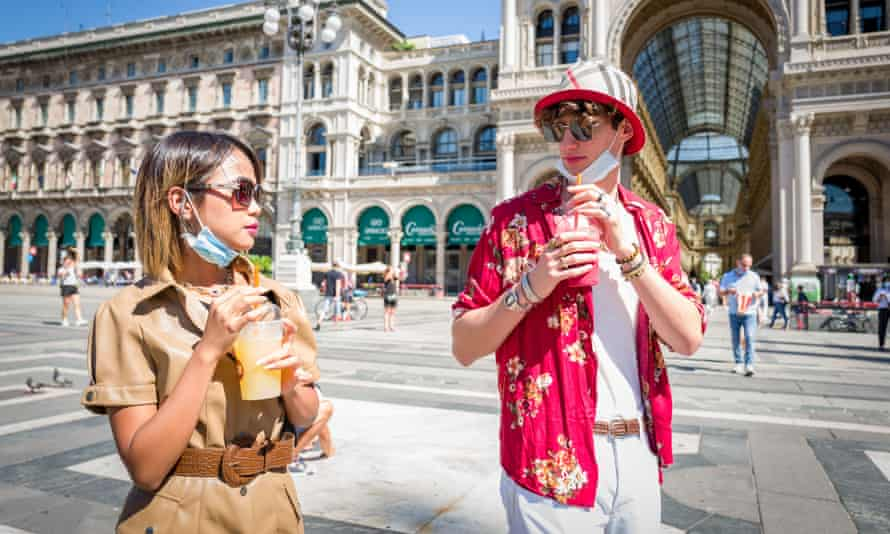without_mask: (202, 160, 264, 244), (554, 114, 611, 171)
